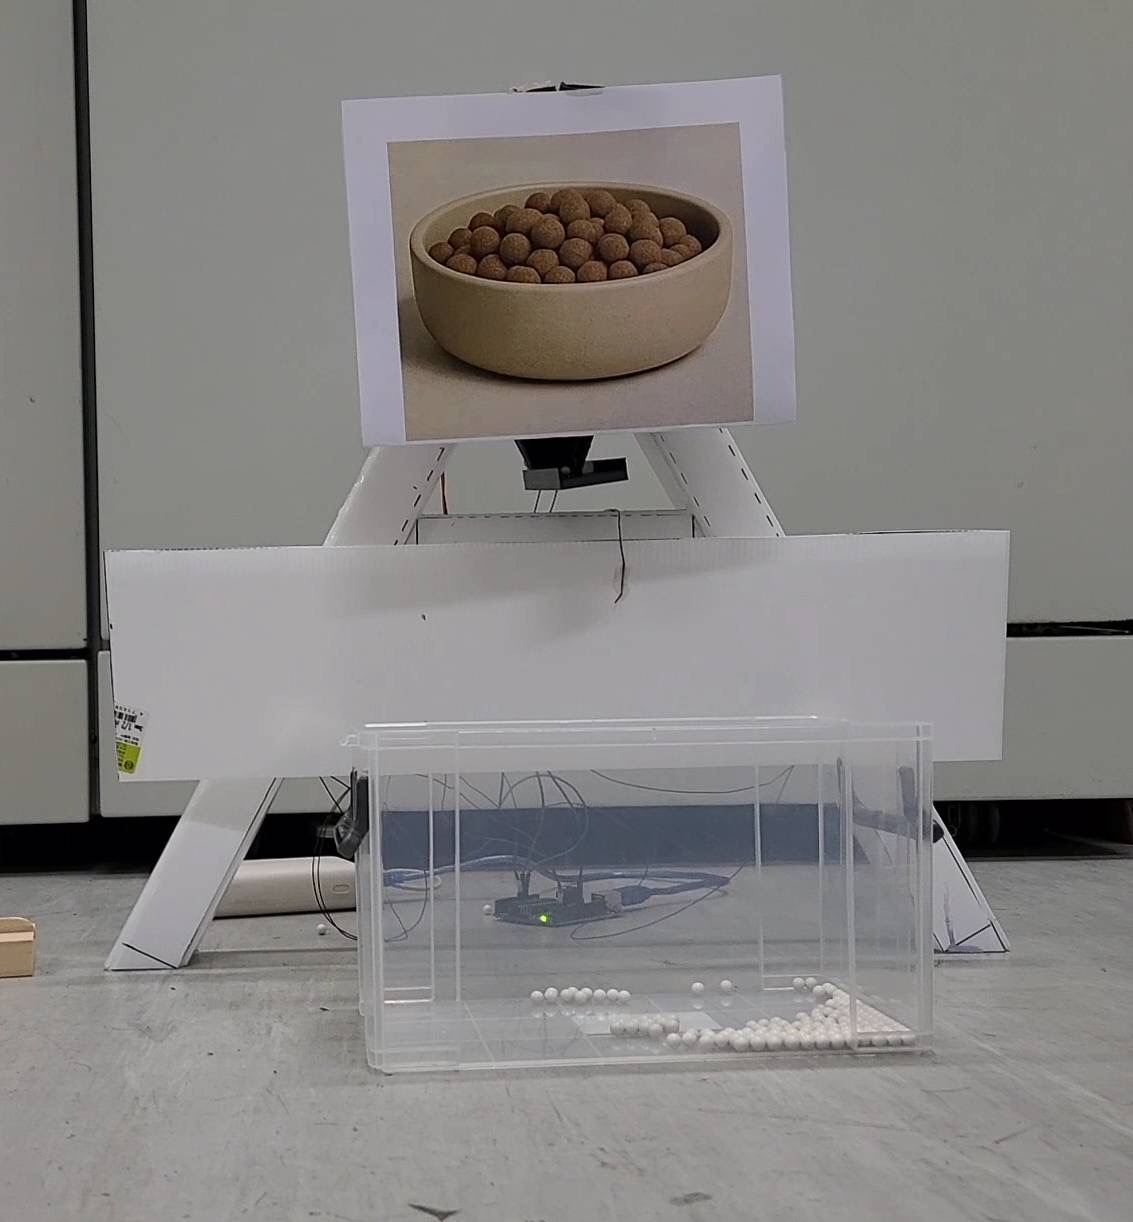machine: (403, 168, 736, 385)
